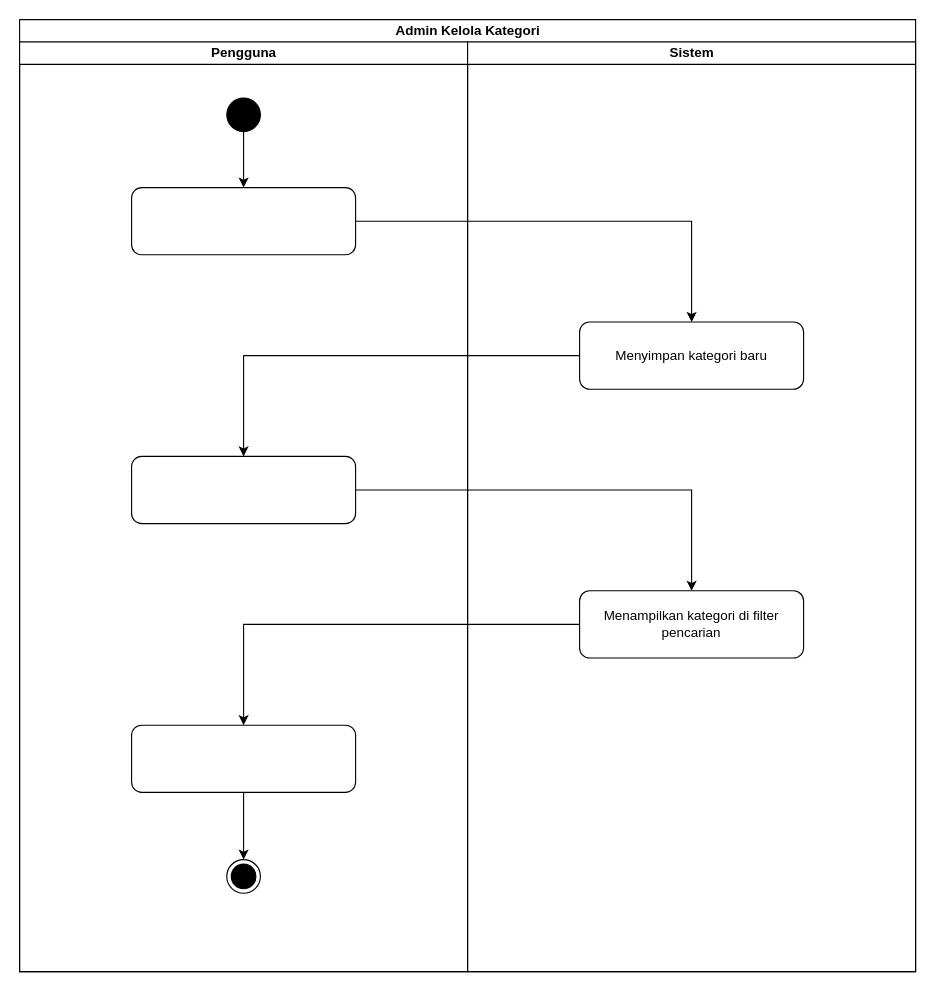
Image size: 935x991. Some labels were removed from this diagram. Here are the shapes that lost their labels. From the top down, the centre of each, then its label:
point 243,220: Menambah kategori rias (Wisuda
point 243,489: Pengantin
point 243,758: Casual)
